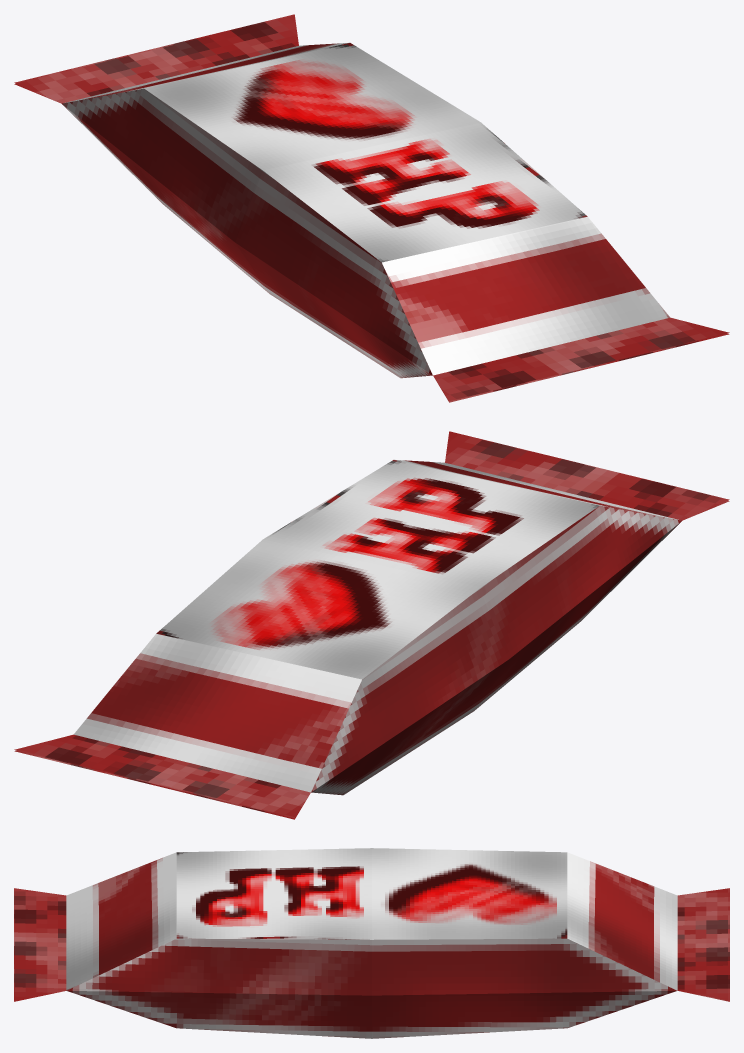
File: hp bar.glb
3 views of the same model, one above another, from view 1: azimuth 30°, elevation 25°; view 2: azimuth 150°, elevation 25°; view 3: azimuth 270°, elevation 25° (orthographic). The views are drawn at different scales.
Visible parts, largest first — view 1: Cube; view 2: Cube; view 3: Cube.
Part boxes in pixels (x1=…): Cube: x1=14, y1=14, x2=729, y2=402; Cube: x1=14, y1=431, x2=729, y2=819; Cube: x1=14, y1=848, x2=729, y2=1038.
Size of the model in its own units: 1.33 by 0.5676 by 3.57.
Materials: 1 (1 with a texture image).
